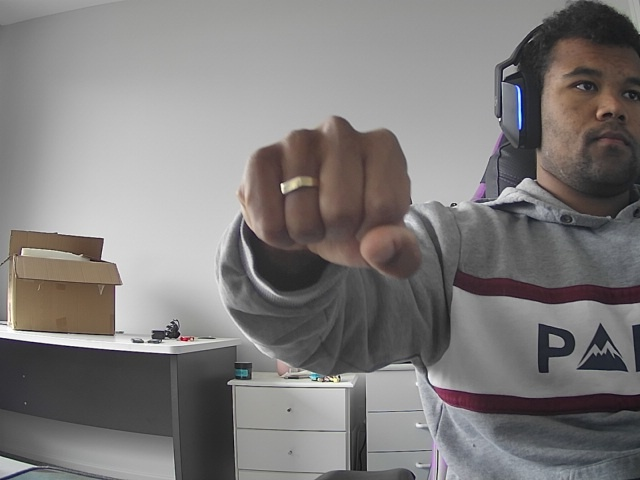Yes: (225, 111, 430, 294)
